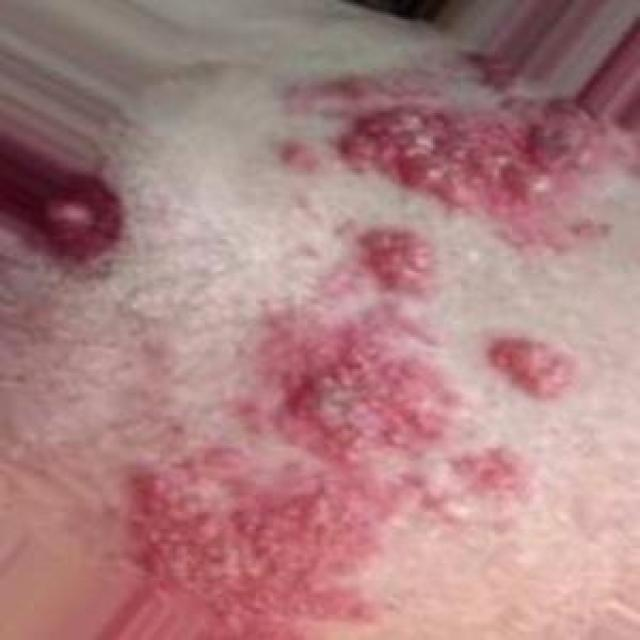Shingles: (132, 206, 574, 625), (279, 61, 605, 261)
